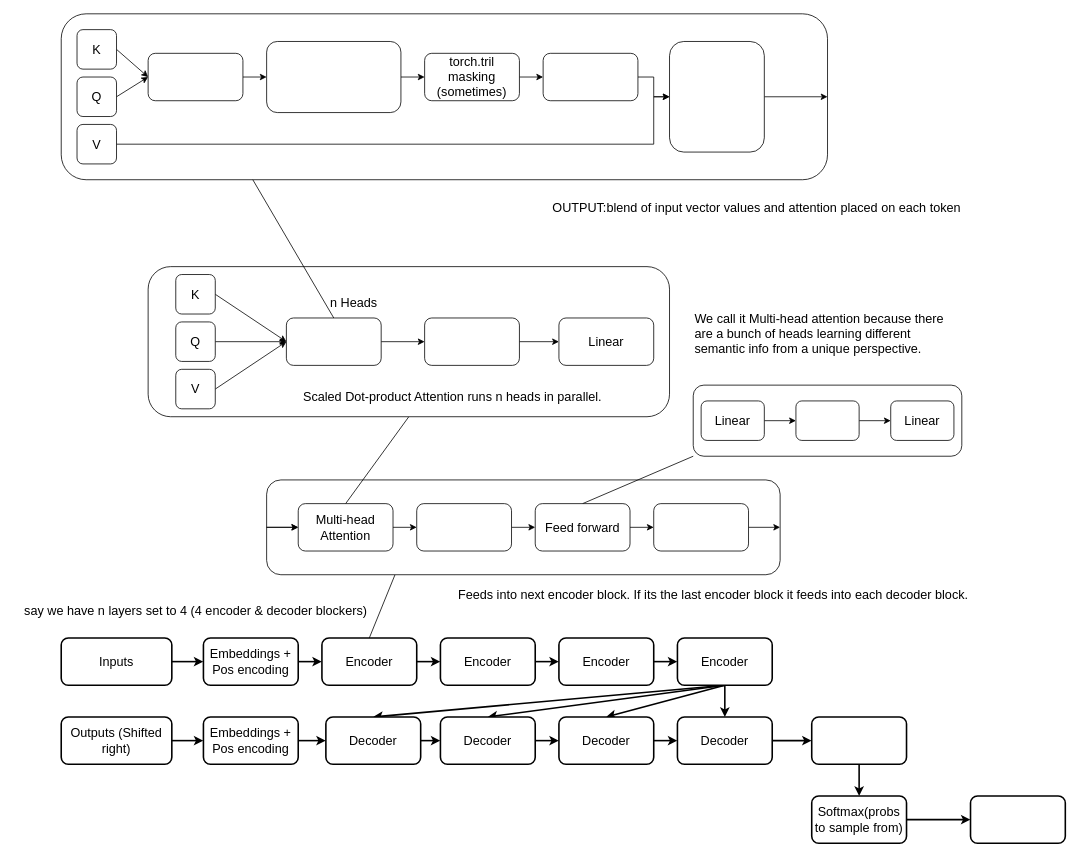
This 1079x858 diagram has some shape labels left out. Each missing label, with the box of its shape:
Concatenate results: (424, 317, 519, 365)
Dot Product(K,Q): (147, 53, 243, 101)
Matrix Multiply: (669, 41, 764, 152)
nn.Linear: (811, 716, 907, 765)
Probs sampling + generation: (969, 795, 1066, 844)
ReLU: (795, 400, 859, 440)
Residual Connection then normalize: (653, 503, 749, 551)
Residual Connection(add) then normalize: (416, 503, 512, 551)
Scaled Dot-product attention: (286, 317, 381, 365)
Scaling by 1/Sqrt(length of a row in the keys or queries matrix OR dk): (266, 41, 401, 113)
Softmax: (542, 53, 638, 101)
